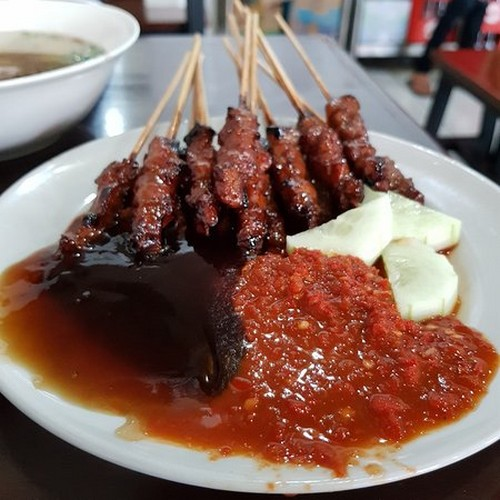sate plecing: (99, 125, 414, 245)
